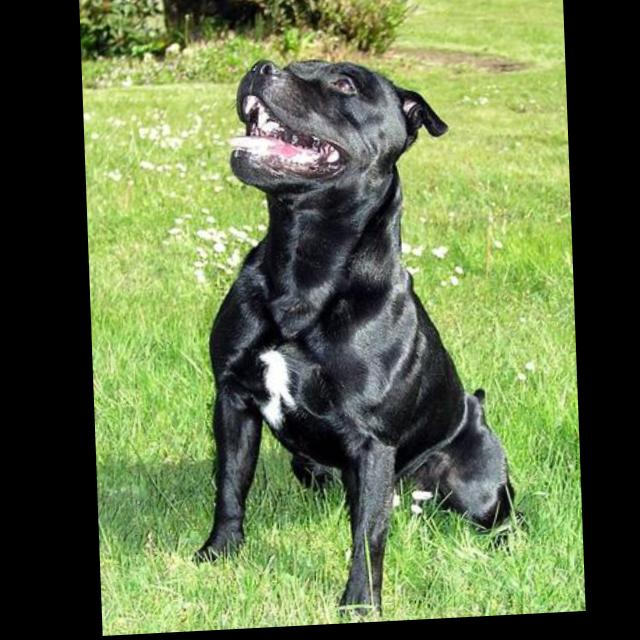staffford: (172, 51, 519, 634)
